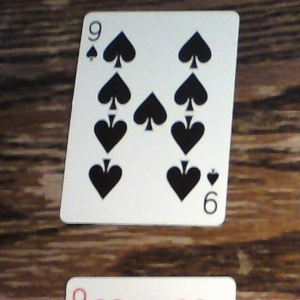card: (58, 9, 241, 228)
